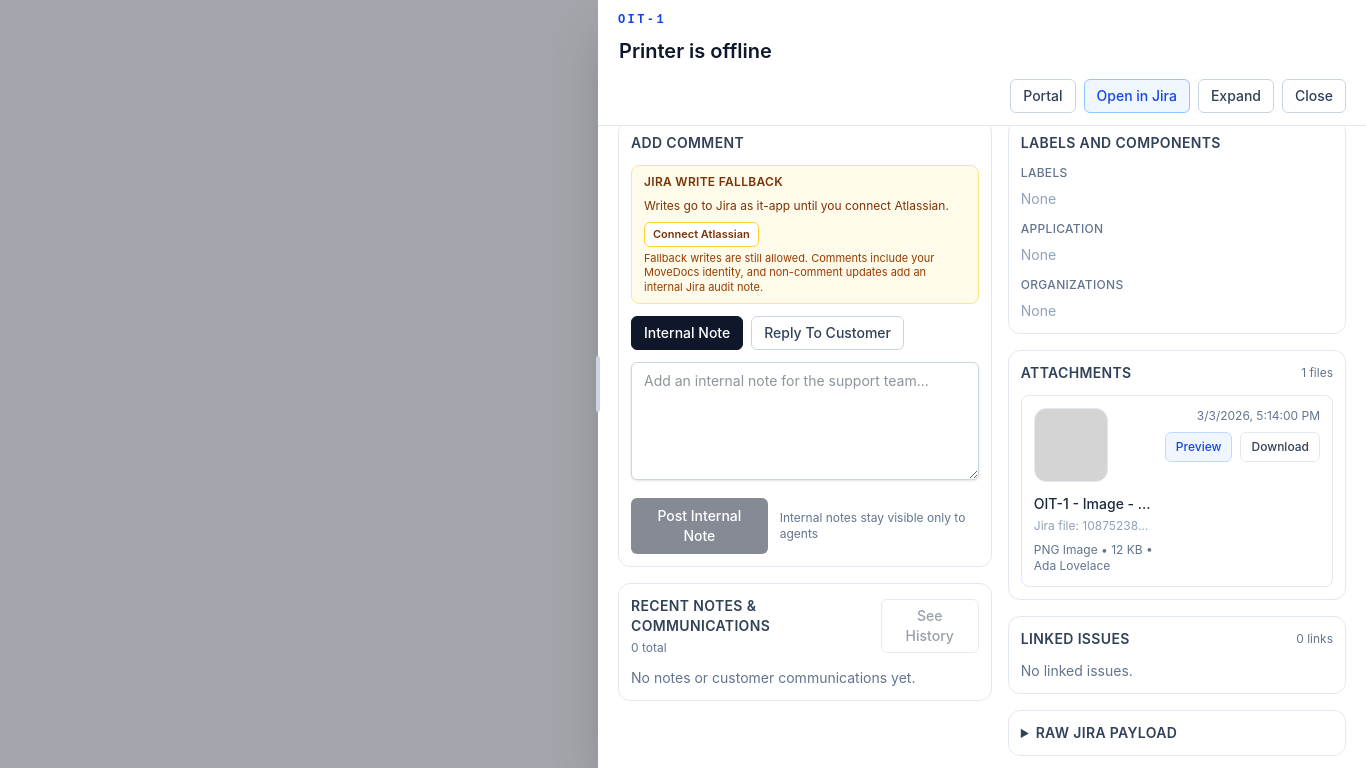
TicketWorkbenchDrawer › shows friendly attachment names and previews supported files in-site
The image size is (1366, 768).
(page scrolled)
expect the heading "Attachments" is shown: met, box [1021,363,1132,383]
expect the text "OIT-1 - Image - 2026-03-03 10-14.png" is shown: met, box [1034,494,1153,514]
What coordinates should you click on to do the following:
click the button "Preview"
I would click on:
 (1199, 447)
Its box is [1165,432,1232,462].
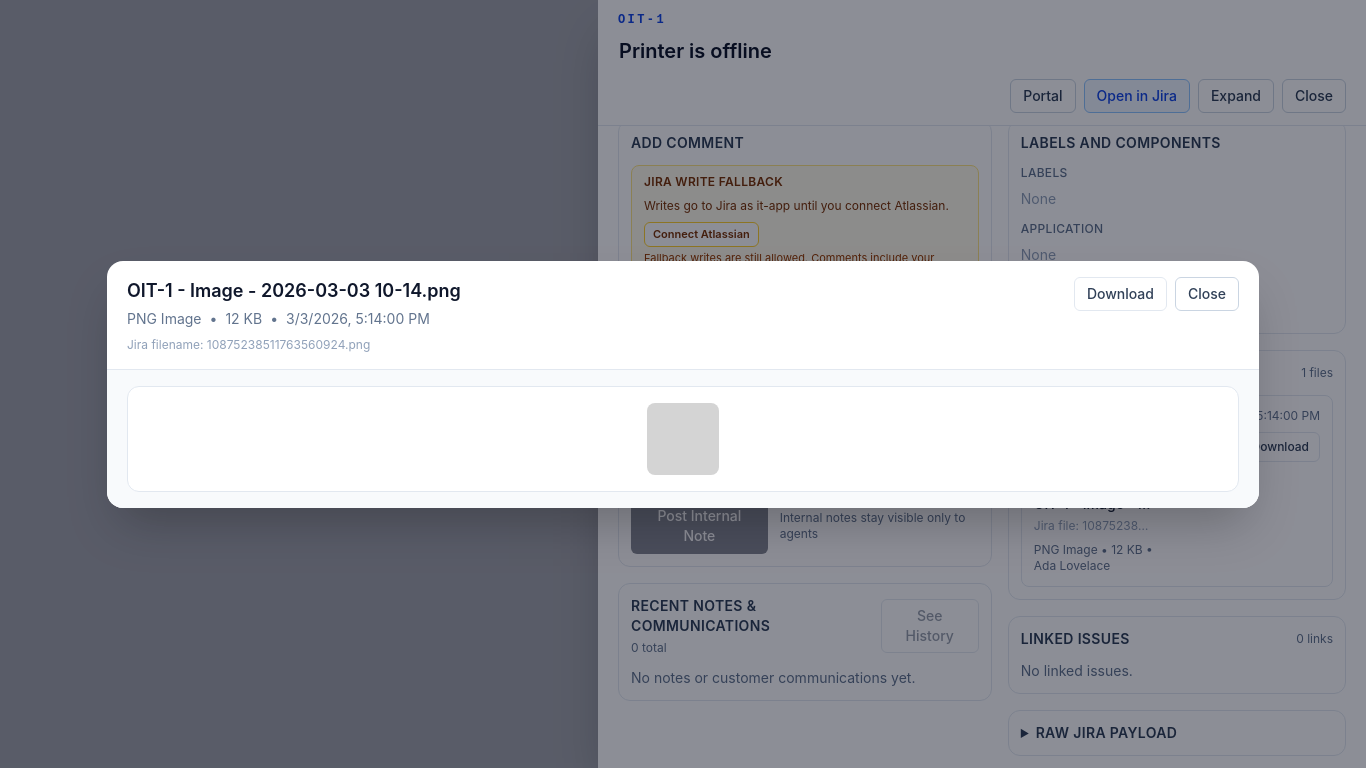
expect the dialog is shown: met, box [107,260,1259,508]
